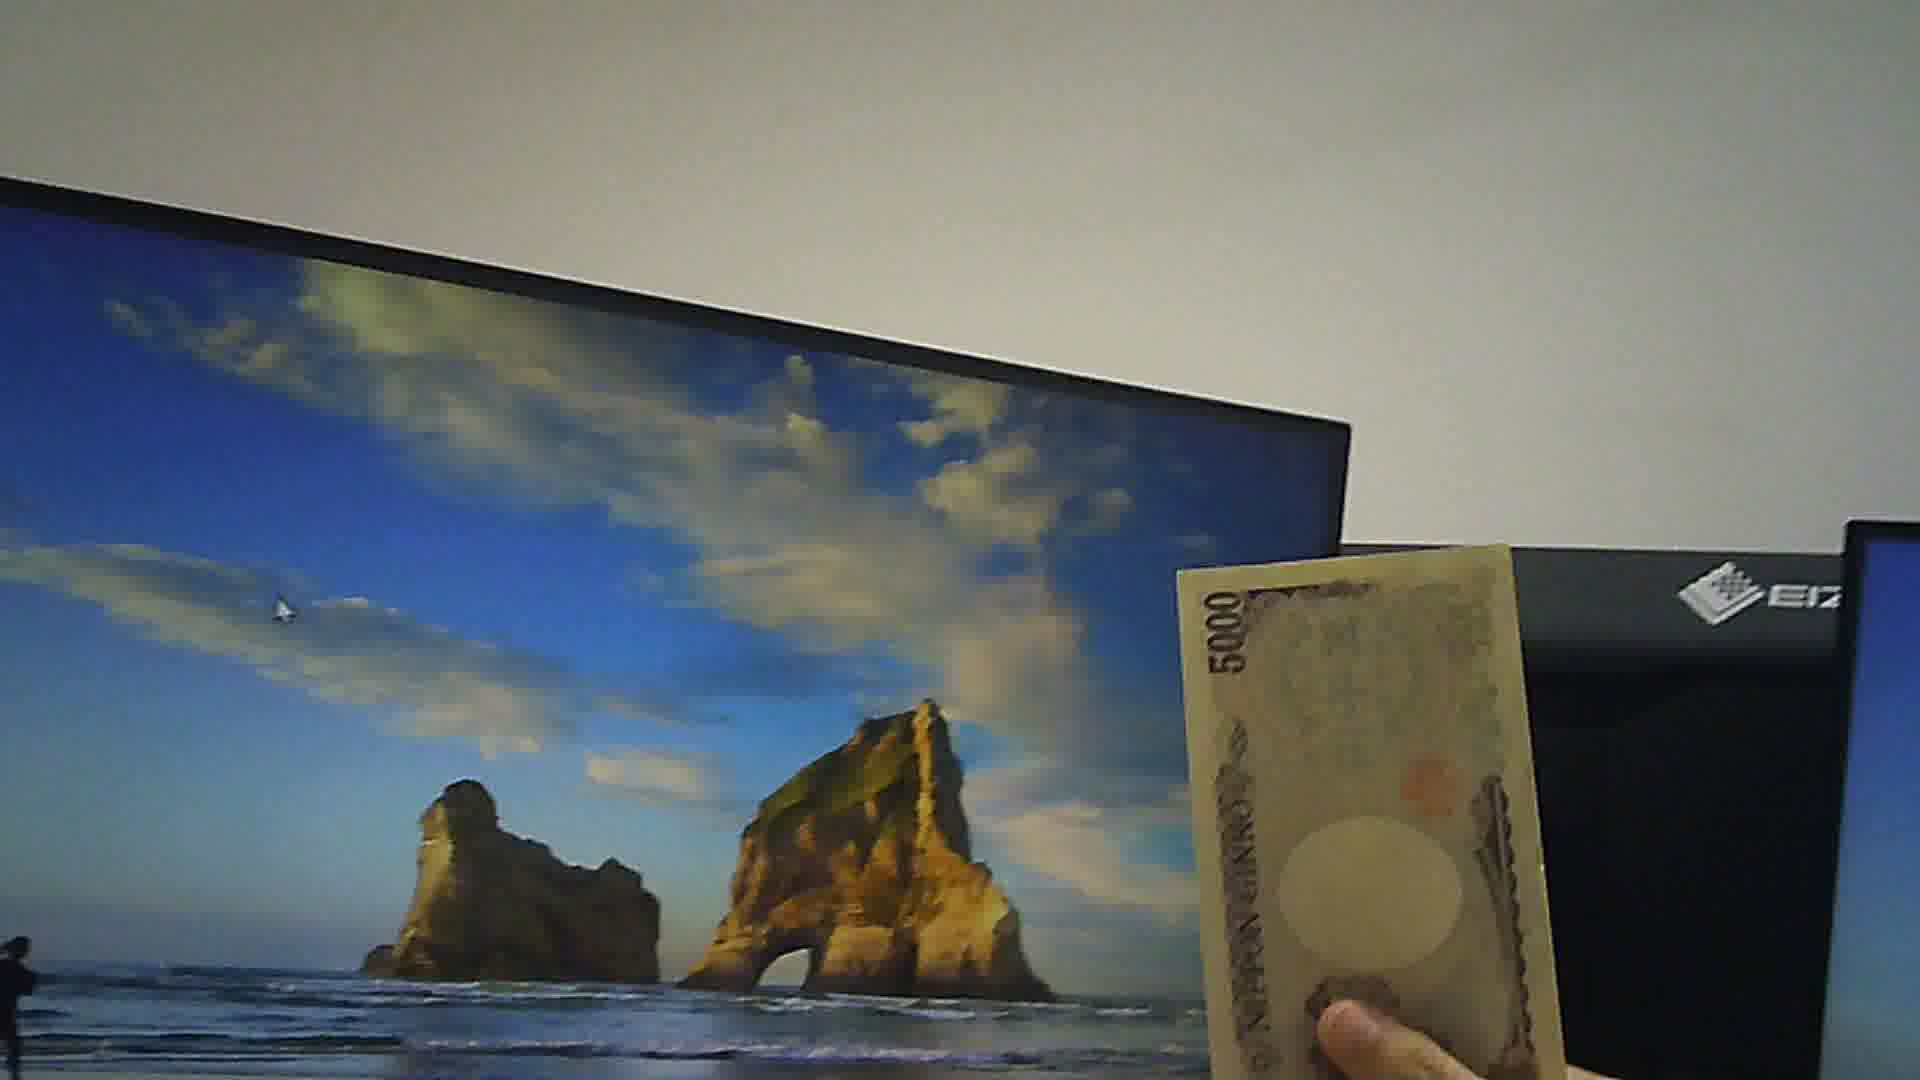5,000 Yen: (1151, 538, 1571, 1079)
